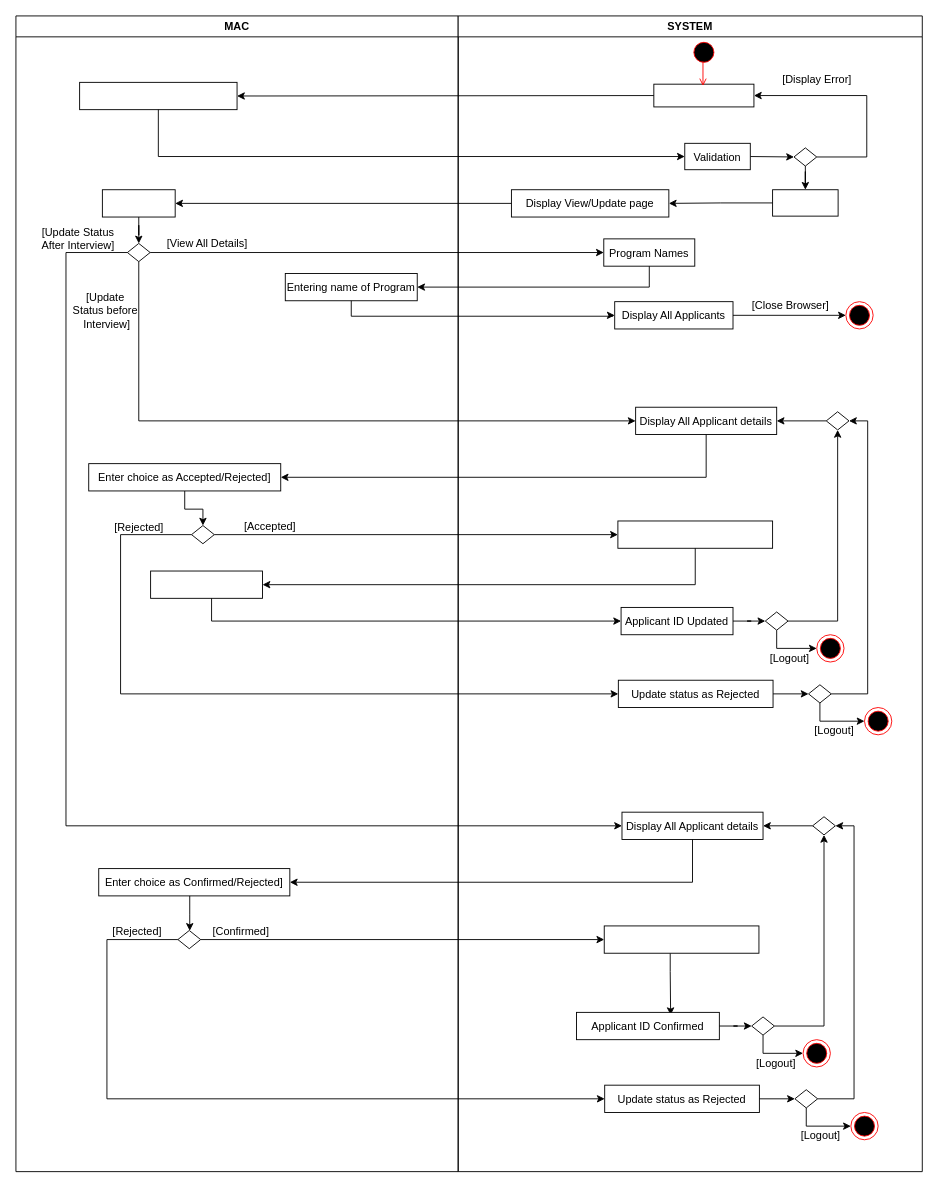
This 938x1188 diagram has some shape labels left out. Here are the shapes that lost their labels. From the top down, the centre of each, then its label:
pixel 158 95: Enter Username & Password
pixel 703 95: Display LoginForm
pixel 138 203: Enter Choice
pixel 805 202: Valid Details
pixel 695 534: Update status as Accepted
pixel 206 584: Enter Interview Date
pixel 681 939: Update status as Confirmed
